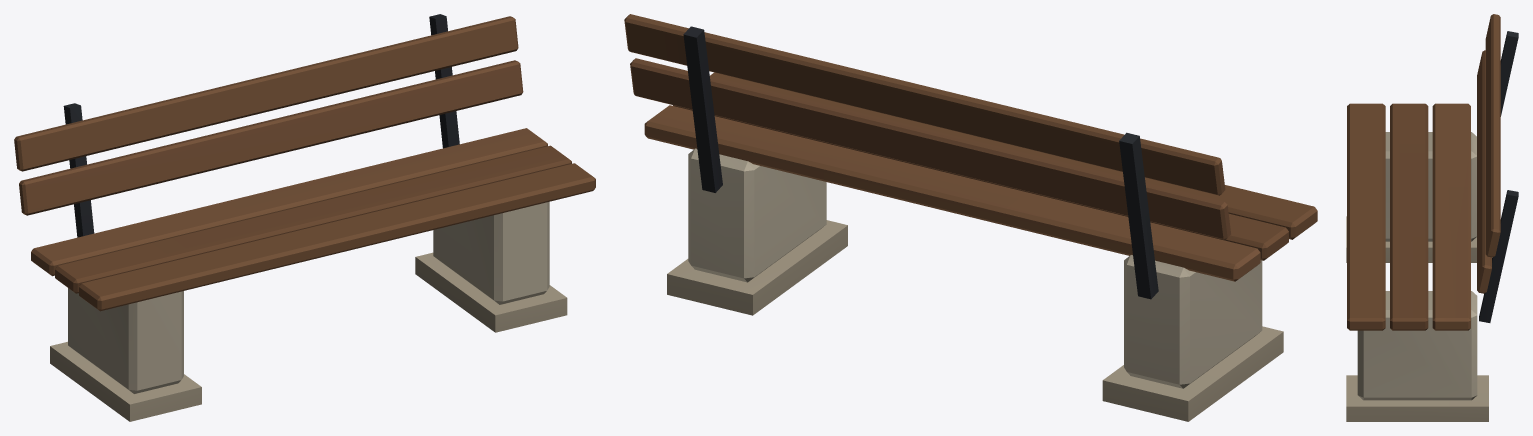
File: plaza-bench.glb
3 renders of one model, left to right at view 1: azimuth 30°, elevation 25°; view 2: azimuth 150°, elevation 25°; view 3: azimuth 270°, elevation 25°, orthographic. The views are drawn at different scales.
Parts seen in each view (by area): view 1: bench; view 2: bench; view 3: bench.
Boxes of the visible parts, x1,y1,x2,y2 form: bench: (14, 14, 595, 421); bench: (624, 14, 1317, 421); bench: (1346, 14, 1518, 421).
Size of the model in its own units: 1.8 by 0.829 by 0.6043.
